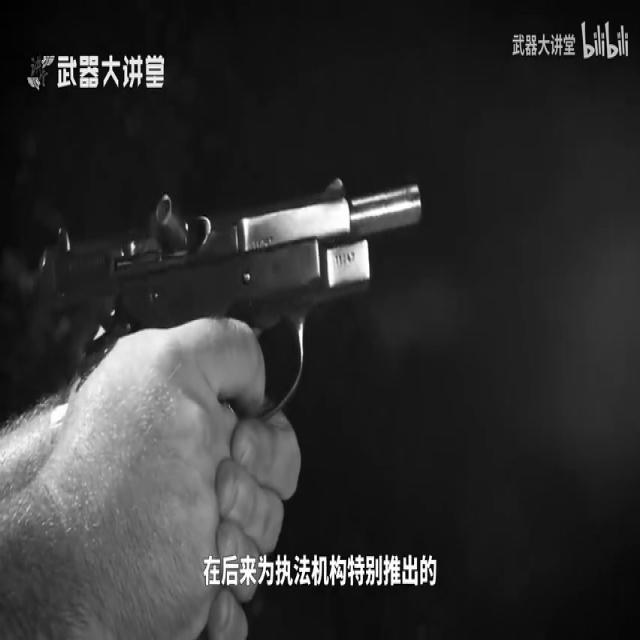Hand-Gun: (0, 70, 448, 493)
